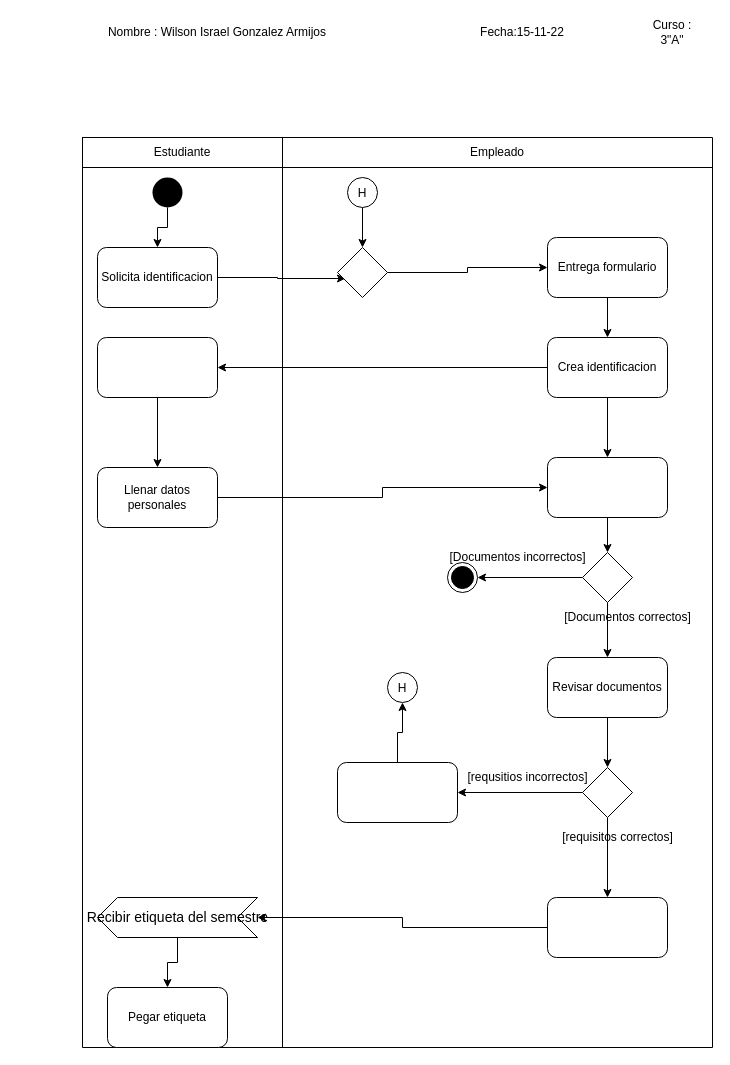
The diagram is 730 pixels wide and 1065 high, and some of its shapes have lost their labels. The centre of each missing label's shape, as x and y in pixels:
"Llena de formularios" goes at point 157,367.
"Revisar identificacion" goes at point 397,792.
"Revisar Informacion" goes at point 607,487.
"Sellar identificaion" goes at point 607,927.
